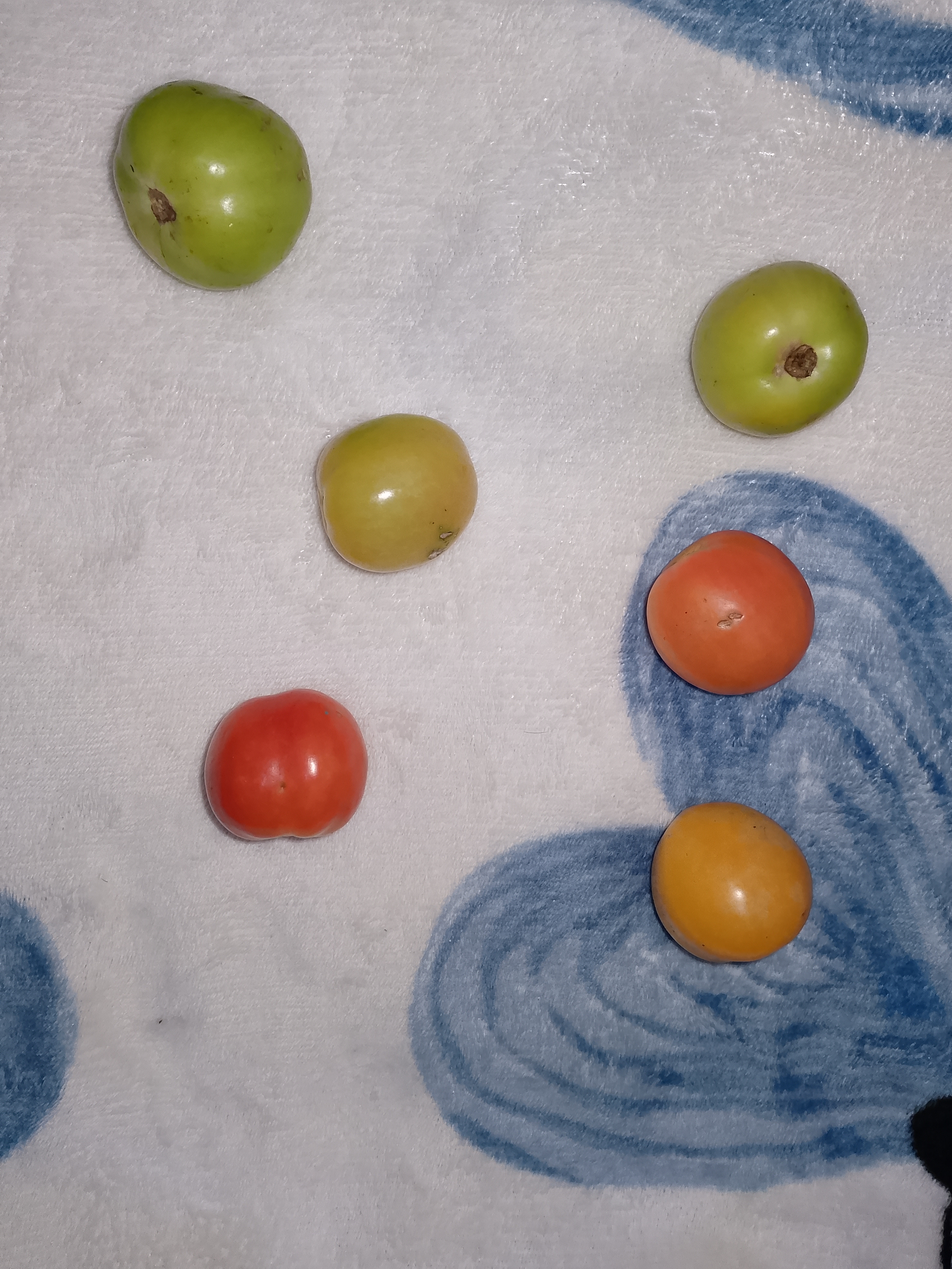Ripe: (169, 664, 426, 882), (636, 506, 836, 714), (646, 763, 818, 971)
Unripe: (83, 54, 363, 317), (639, 213, 906, 457), (293, 376, 506, 589)
